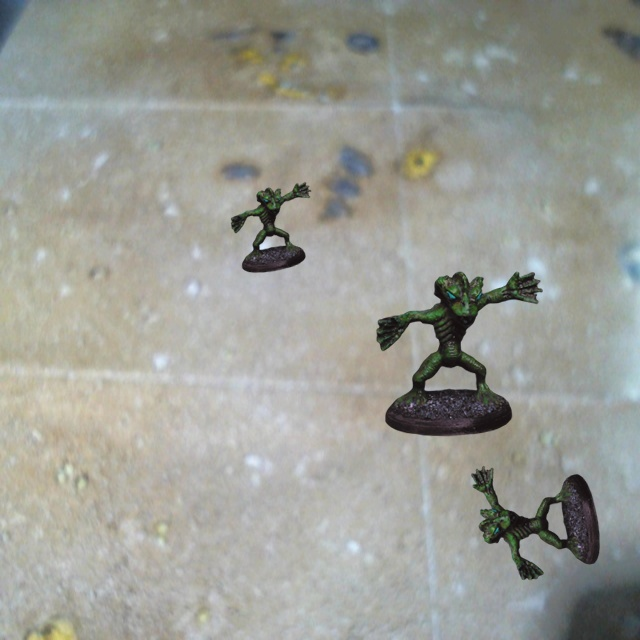pieza_juego: (376, 272, 542, 435), (471, 466, 599, 579), (231, 182, 310, 272)
